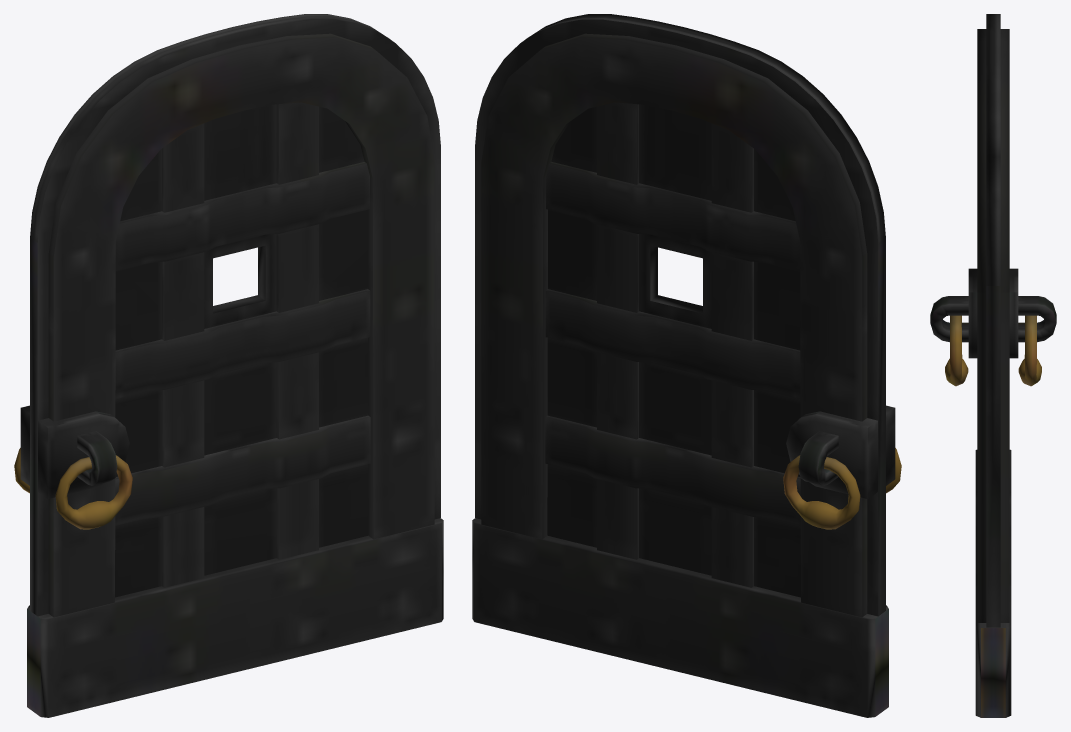
Rendered from door-iron-r.glb.
3 views of the same model, side by side, from view 1: azimuth 30°, elevation 25°; view 2: azimuth 150°, elevation 25°; view 3: azimuth 270°, elevation 25° (orthographic). The views are drawn at different scales.
Size of the model in its own units: 12 by 18 by 3.56.
1 material, 1 textured.
